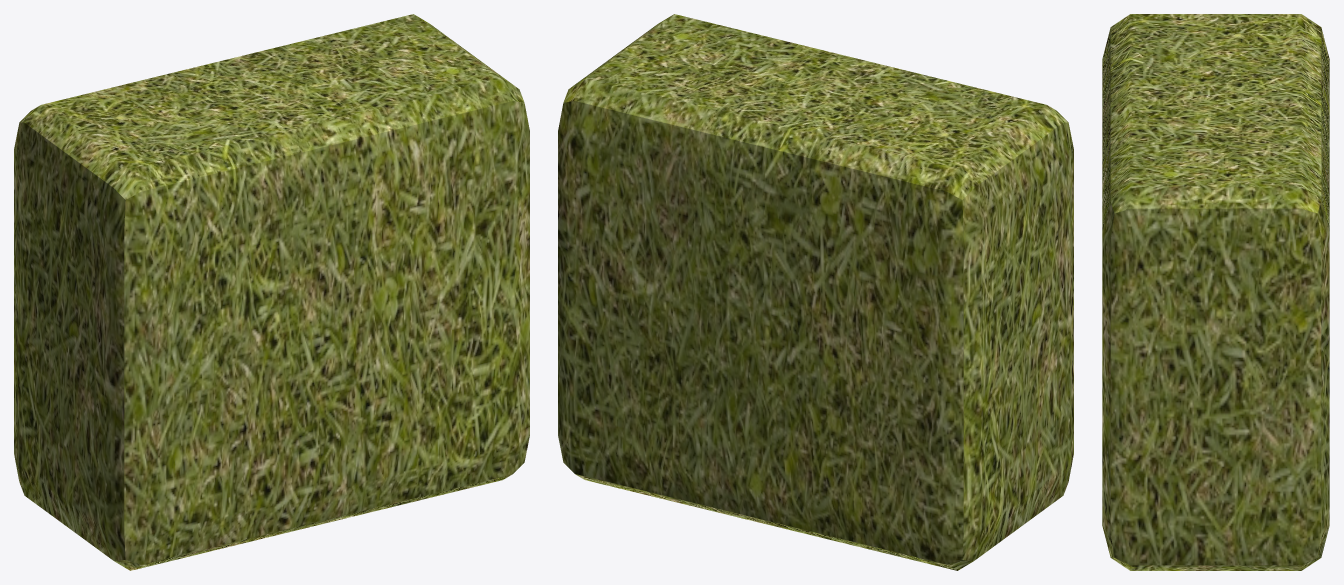
File: grassHedgeBlock.fbx
3 views of the same model, side by side, from view 1: azimuth 30°, elevation 25°; view 2: azimuth 150°, elevation 25°; view 3: azimuth 270°, elevation 25° (orthographic). The views are drawn at different scales.
Parts seen in each view (by area): view 1: pCube138; view 2: pCube138; view 3: pCube138.
Boxes of the visible parts, x1,y1,x2,y2 form: pCube138: (14, 14, 529, 570); pCube138: (558, 14, 1073, 570); pCube138: (1102, 14, 1329, 570).
Size of the model in its own units: 3.72 by 3.4 by 1.83.
1 material, 1 textured.
